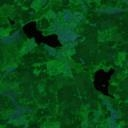alloviz: (21, 19, 63, 49), (90, 65, 116, 99)
